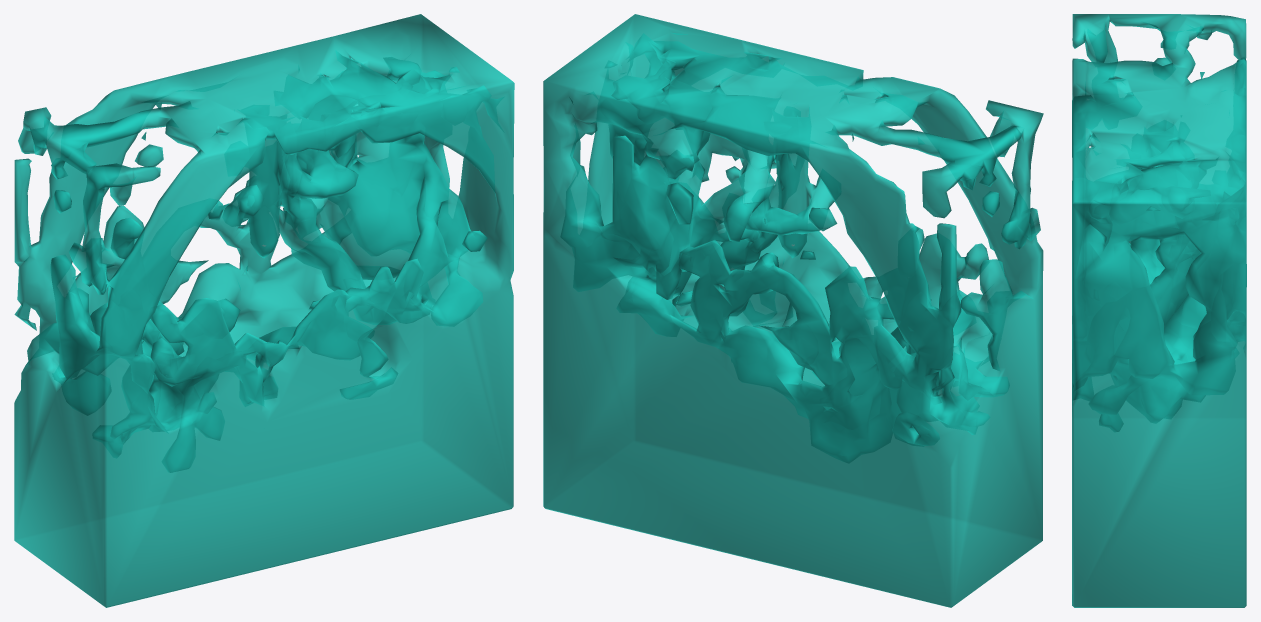
The picture shows the model from 3 angles, left to right: view 1: azimuth 30°, elevation 25°; view 2: azimuth 150°, elevation 25°; view 3: azimuth 270°, elevation 25°; orthographic projection. The views are drawn at different scales.
Visible parts, largest first — view 1: Liquid_Domain; view 2: Liquid_Domain; view 3: Liquid_Domain.
Part boxes in pixels (x1,y1,x2,y2): Liquid_Domain: (14,14,514,607); Liquid_Domain: (543,14,1043,607); Liquid_Domain: (1072,14,1246,607).
Bounding box in the file's own units: 885 × 884 × 345.
